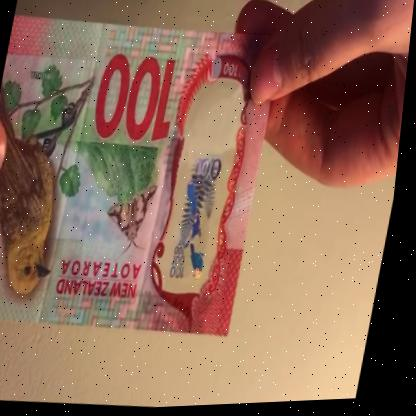100B: (168, 107, 240, 290)
